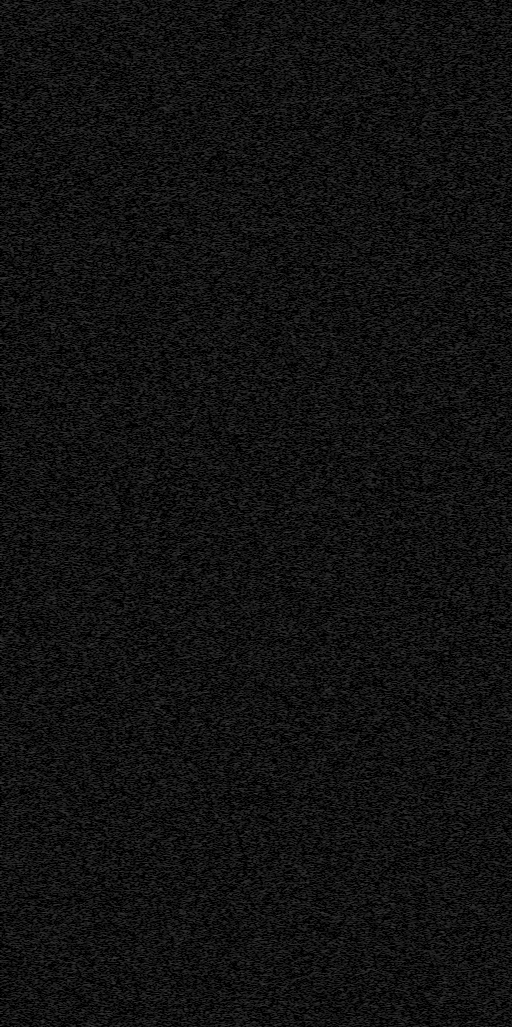wv_cw: (9, 0, 14, 1027)
wv_usb: (161, 748, 167, 1027), (161, 294, 167, 459), (7, 14, 13, 178), (161, 460, 167, 606), (7, 442, 13, 585), (161, 631, 167, 747), (161, 204, 167, 293), (162, 4, 167, 96), (7, 586, 13, 653), (174, 638, 179, 712), (174, 5, 178, 97), (7, 954, 13, 1009), (161, 141, 167, 183), (174, 397, 179, 444), (162, 97, 167, 140), (8, 681, 12, 715), (174, 998, 178, 1027), (162, 607, 167, 630), (174, 777, 178, 804), (7, 1010, 13, 1027), (174, 508, 178, 531), (7, 179, 12, 197), (174, 98, 178, 120), (174, 726, 178, 747), (174, 756, 178, 776), (174, 617, 178, 637), (162, 184, 167, 200), (174, 852, 178, 871), (174, 815, 178, 832), (174, 981, 178, 997), (8, 203, 12, 218), (175, 250, 178, 270), (174, 966, 178, 979), (174, 485, 178, 498), (174, 452, 178, 465), (175, 932, 178, 949), (8, 232, 12, 244), (8, 219, 12, 231), (7, 4, 13, 12), (174, 920, 178, 931), (8, 669, 12, 680), (8, 262, 12, 273), (174, 909, 178, 919), (8, 248, 12, 257), (174, 475, 178, 484), (174, 163, 178, 172), (174, 127, 178, 136), (8, 725, 12, 734), (8, 381, 12, 390), (8, 369, 12, 378), (175, 891, 178, 902), (174, 882, 178, 890), (174, 873, 178, 881), (174, 833, 178, 841), (8, 795, 12, 803), (8, 716, 12, 724), (175, 950, 178, 960), (174, 844, 178, 851), (174, 748, 178, 755), (8, 763, 12, 770), (8, 654, 12, 661), (8, 409, 12, 416), (8, 300, 12, 307), (175, 532, 178, 541), (174, 719, 178, 725), (174, 445, 178, 451), (175, 150, 178, 158), (8, 811, 12, 817), (8, 662, 12, 668), (8, 425, 12, 431), (8, 417, 12, 423), (175, 500, 178, 507), (175, 182, 178, 189), (8, 292, 11, 299), (8, 748, 12, 753), (8, 432, 12, 437), (175, 466, 178, 472), (175, 196, 178, 202), (8, 943, 11, 949), (8, 777, 11, 783), (8, 198, 12, 202), (8, 827, 12, 831), (8, 735, 12, 739), (8, 274, 12, 278), (175, 190, 178, 195), (175, 808, 178, 812), (175, 573, 178, 577), (174, 140, 178, 143), (175, 121, 178, 125), (8, 950, 12, 953), (8, 832, 12, 835), (8, 786, 12, 789), (8, 754, 11, 758), (8, 438, 12, 441), (8, 322, 12, 325), (8, 279, 11, 283), (175, 715, 178, 718), (175, 603, 178, 606), (175, 592, 178, 595), (175, 580, 178, 583), (175, 557, 178, 560), (175, 173, 178, 176), (175, 159, 178, 162), (8, 848, 11, 851), (8, 759, 11, 762), (8, 316, 11, 319)
wv_wbfm: (43, 0, 50, 1027)
